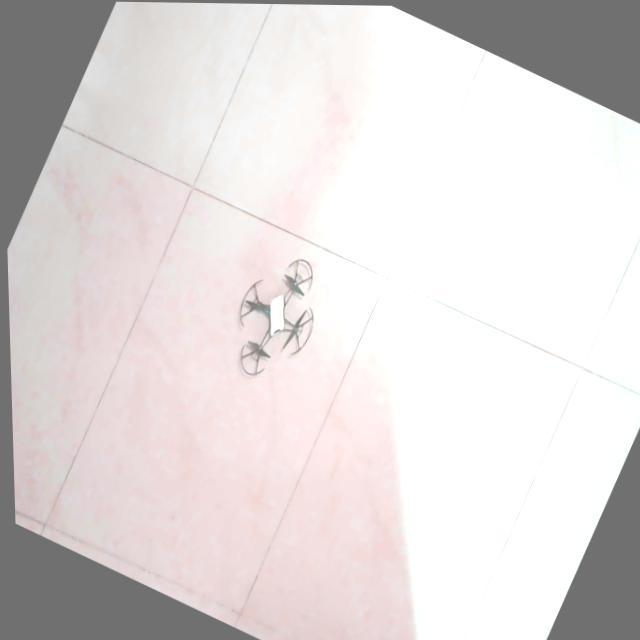drone: (236, 257, 311, 375)
